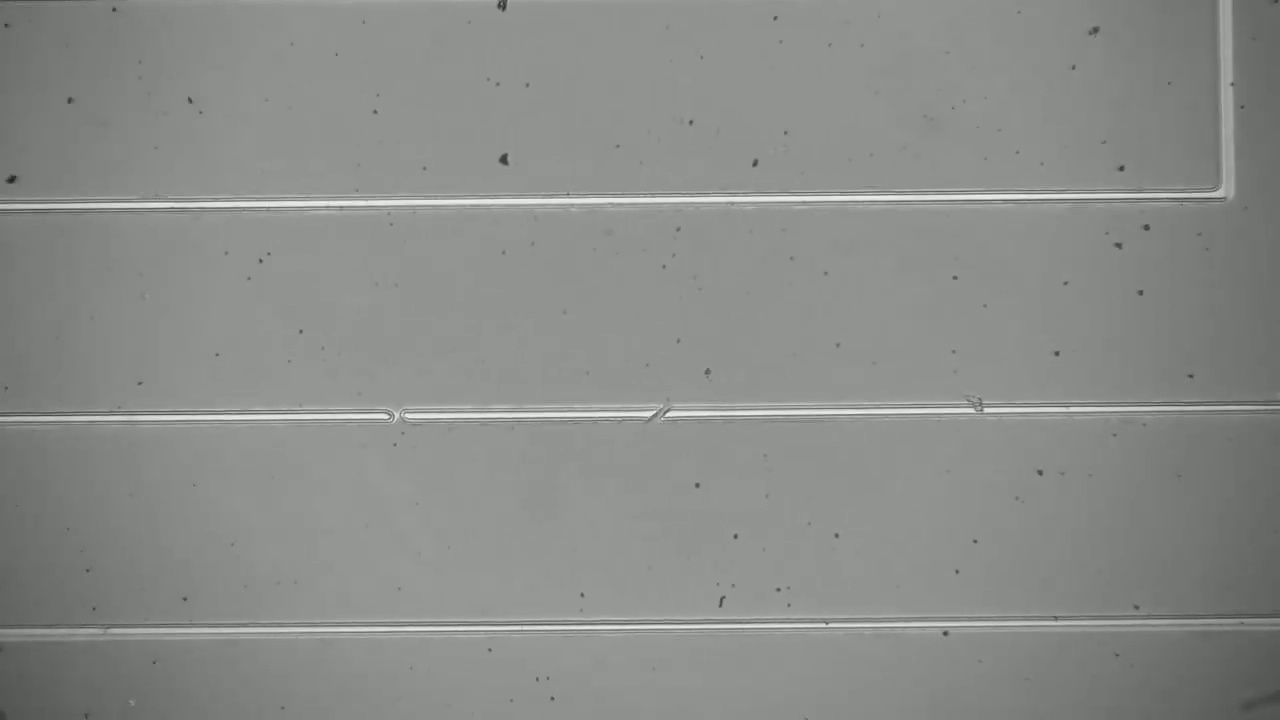open: (632, 391, 682, 436), (377, 395, 421, 433)
stains_enbedded: (955, 387, 996, 425)
